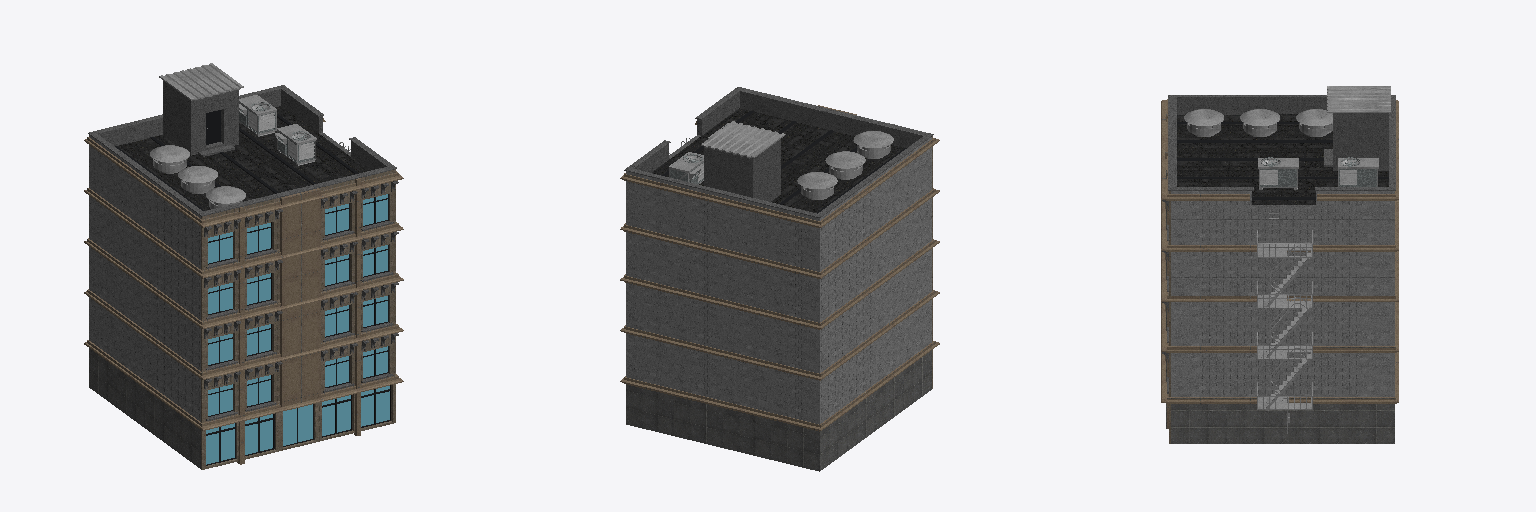
The picture shows the model from 3 angles: view 1: azimuth 30°, elevation 25°; view 2: azimuth 150°, elevation 25°; view 3: azimuth 270°, elevation 25°; orthographic projection.
Visible parts, largest first — view 1: Building_Small_DownTown4_Building_Small_DownTown4_Mesh; view 2: Building_Small_DownTown4_Building_Small_DownTown4_Mesh; view 3: Building_Small_DownTown4_Building_Small_DownTown4_Mesh.
Part boxes in pixels (left/top/right/bottom): Building_Small_DownTown4_Building_Small_DownTown4_Mesh: left=84, top=63, right=403, bottom=469; Building_Small_DownTown4_Building_Small_DownTown4_Mesh: left=620, top=87, right=939, bottom=471; Building_Small_DownTown4_Building_Small_DownTown4_Mesh: left=1161, top=86, right=1398, bottom=443.
Bounding box in the file's own units: 13.92 × 17.67 × 12.73.
11 materials, 10 textured.